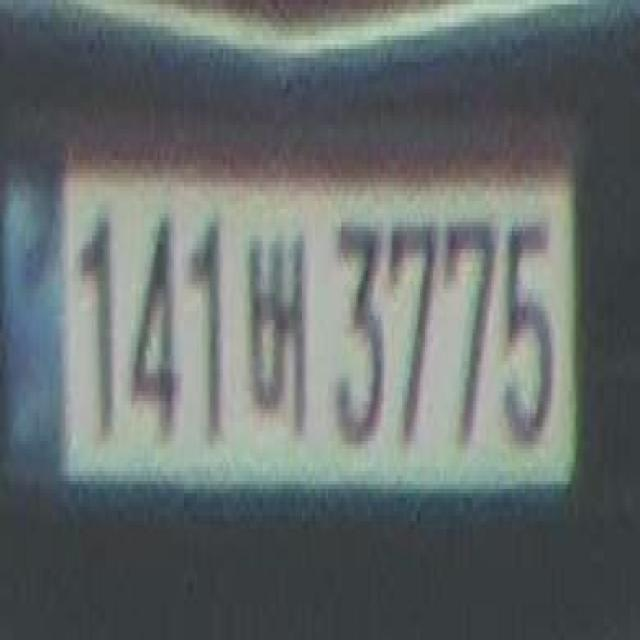illegal_plate: (9, 141, 589, 546)
